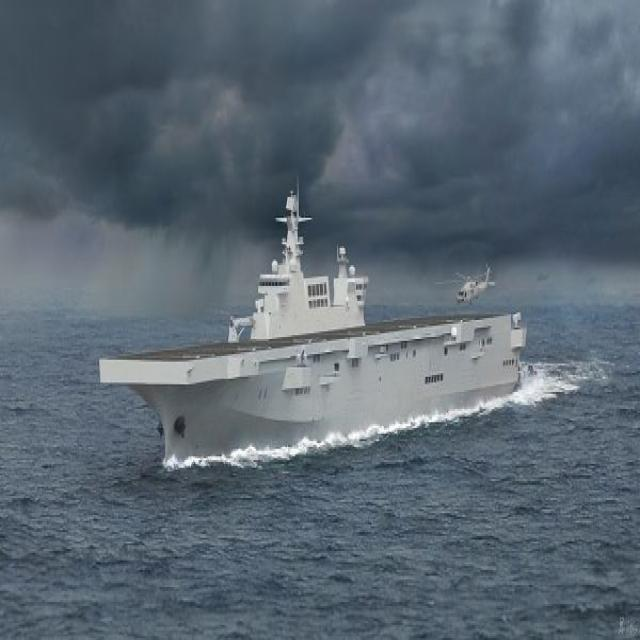Landing-Ship-Yushen-Class-075-CHI: (92, 165, 528, 454)
